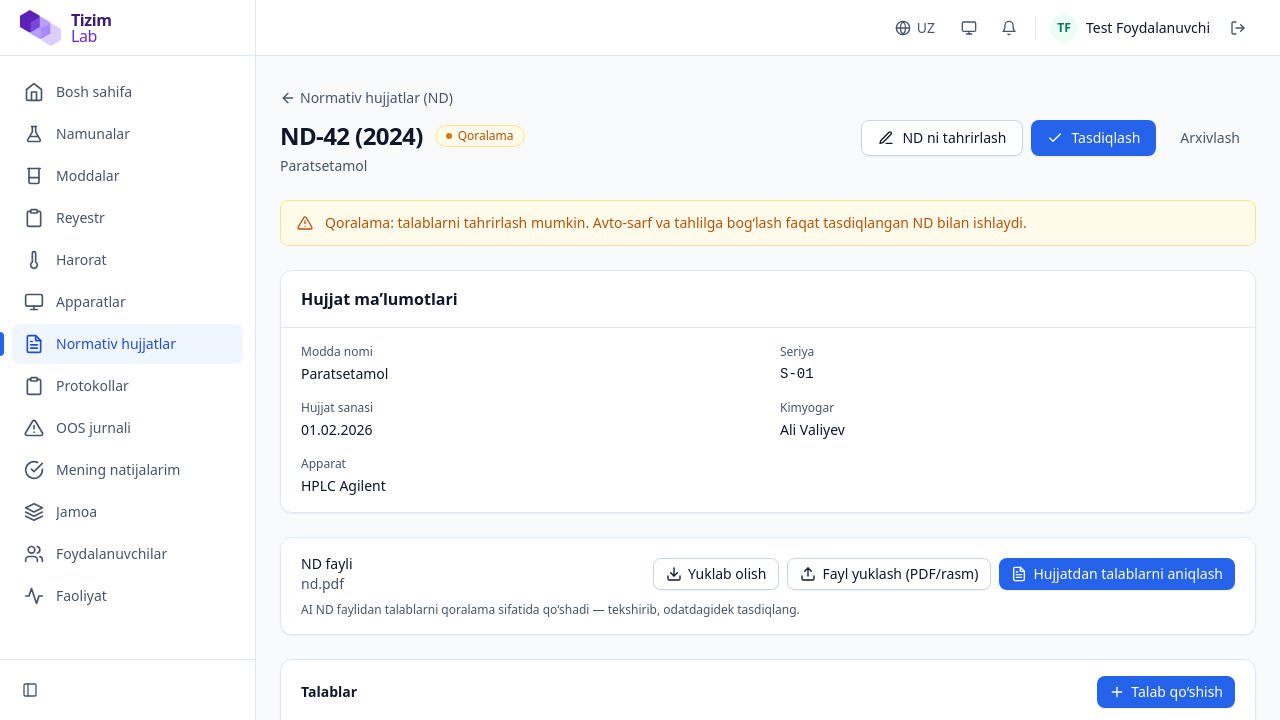
P18: ND — AI talablari va metadata › lab_head: "Hujjatdan talablarni aniqlash" → xulosa va o‘tkazib yuborilganlar sababi
The image size is (1280, 720).
Click the button "Hujjatdan talablarni aniqlash" at x=1117, y=574, box top-left (999, 558), bottom-right (1235, 590)
(page scrolled)
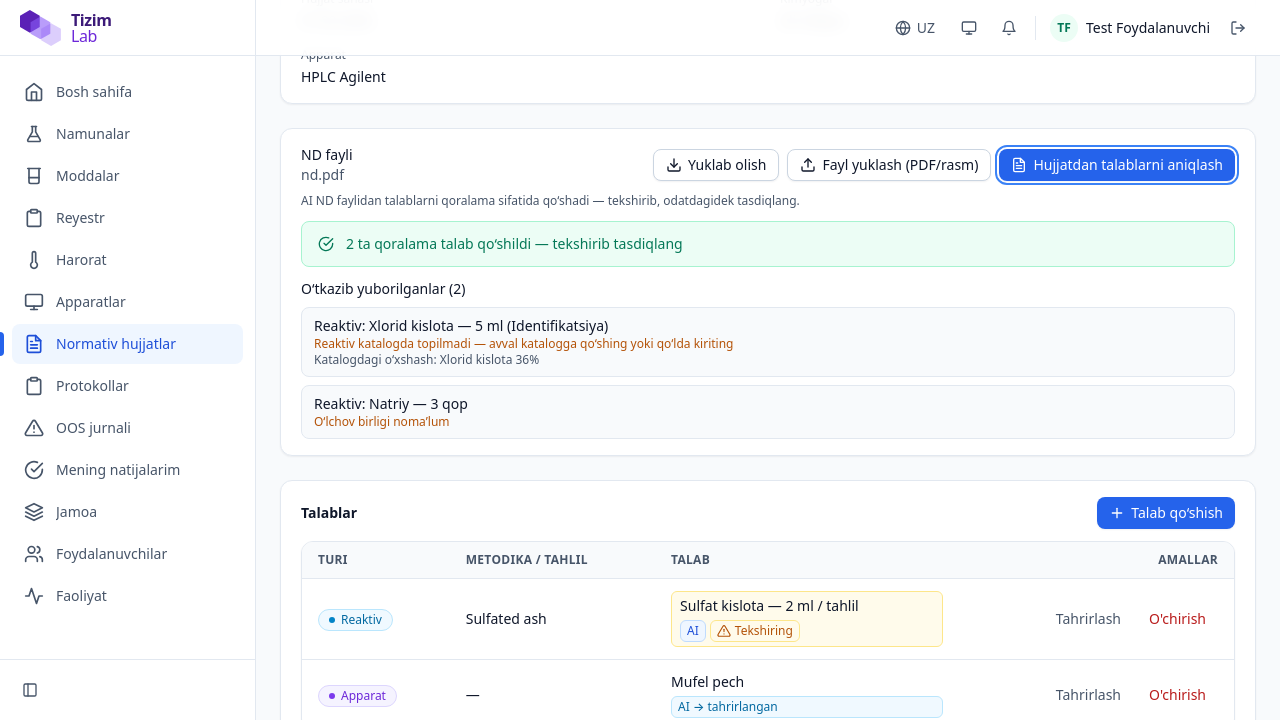
Check: the text "2 ta qoralama talab qo‘shildi — tekshirib tasdiqlang" is shown, box top-left (346, 234), bottom-right (683, 253)
Check: the text "Reaktiv katalogda topilmadi — avval katalogga qo‘shing yoki qo‘lda kiriting" is shown, box top-left (314, 335), bottom-right (734, 352)
Check: the text "O‘lchov birligi noma’lum" is shown, box top-left (314, 413), bottom-right (450, 430)
